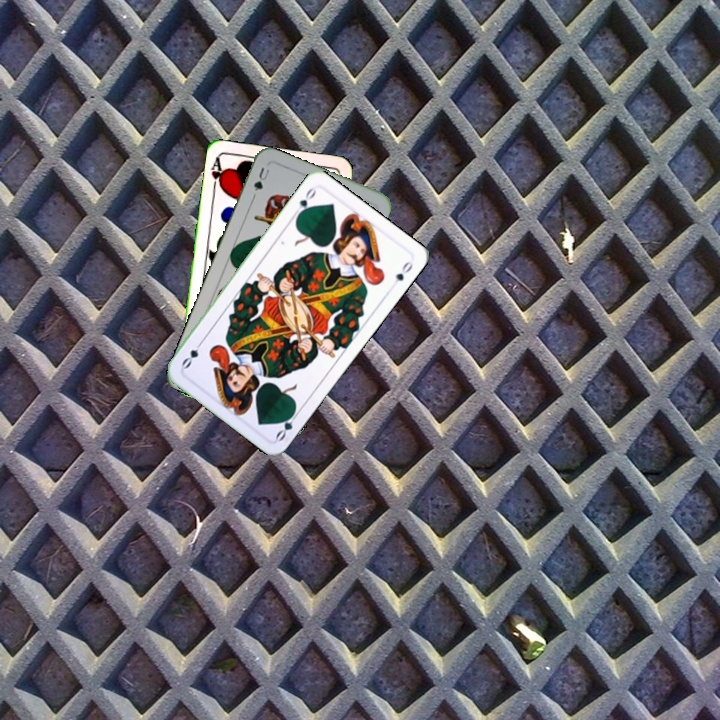GO: (272, 405, 302, 444), (289, 183, 319, 220)
GU: (249, 163, 273, 194)
HA: (207, 154, 227, 194)
